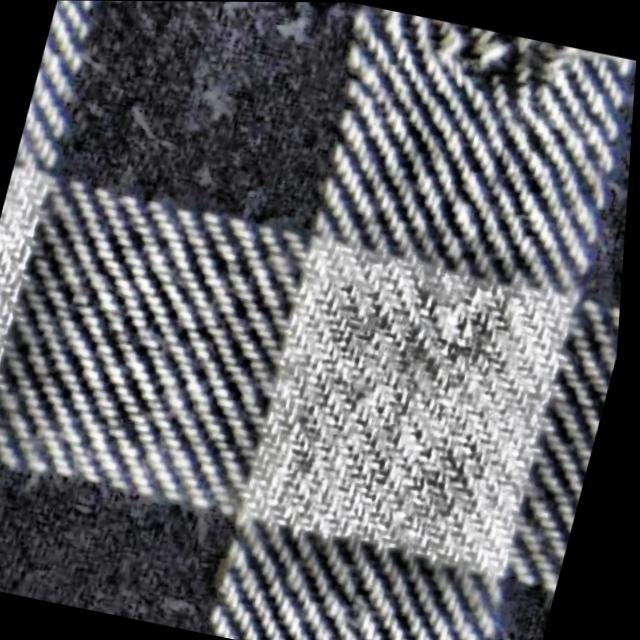Stitch: (81, 0, 637, 183), (207, 0, 634, 155)
